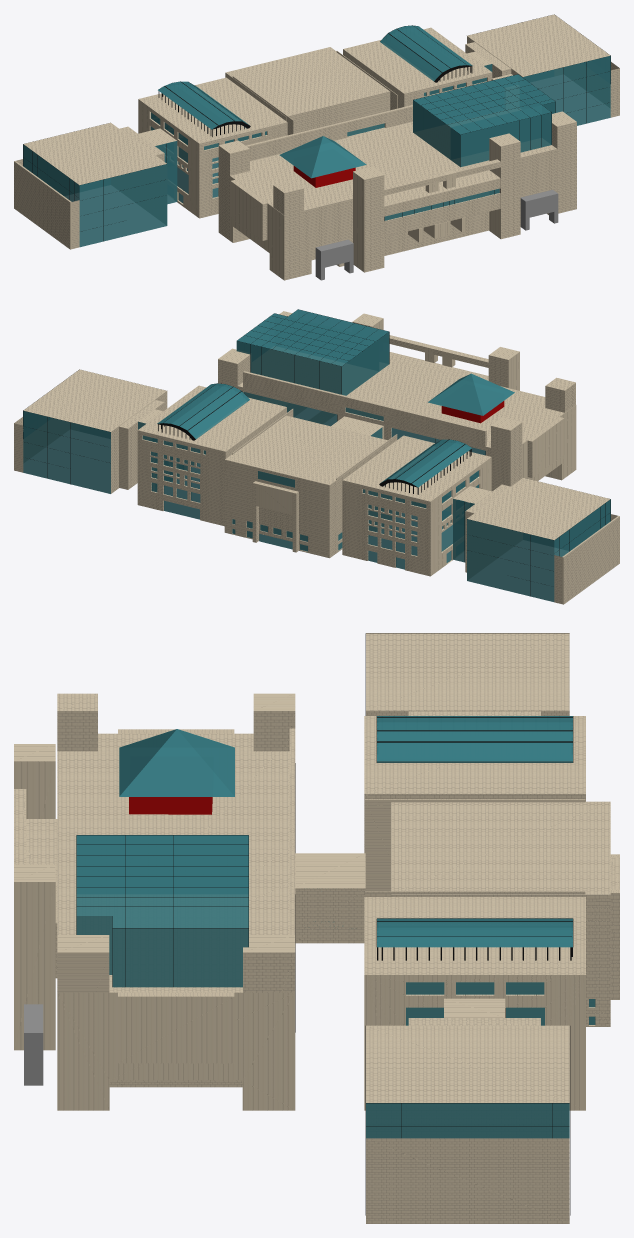
3 renders of one model, top to bottom at view 1: azimuth 30°, elevation 25°; view 2: azimuth 150°, elevation 25°; view 3: azimuth 270°, elevation 25°, orthographic. The views are drawn at different scales.
Visible parts, largest first — view 1: Object001, 玻璃1, 游泳棚腿, 灰色装饰, 红色底座; view 2: Object001, 玻璃1, 游泳棚腿, 红色底座; view 3: Object001, 玻璃1, 游泳棚腿, 灰色装饰, 红色底座.
Boxes of the visible parts, x1,y1,x2,y2 form: Object001: (14,14,619,280); 玻璃1: (23,25,610,247); 游泳棚腿: (23,14,610,241); 灰色装饰: (315,189,558,280); 红色底座: (293,166,355,187); Object001: (14,311,619,604); 玻璃1: (23,309,610,601); 游泳棚腿: (23,309,610,596); 红色底座: (441,401,504,423); Object001: (14,633,619,1223); 玻璃1: (76,716,595,1138); 游泳棚腿: (76,633,573,1215); 灰色装饰: (24,1004,43,1085); 红色底座: (129,797,212,814).
Size of the model in its own units: 682 by 122 by 359.
Materials: 5 (1 with a texture image).
